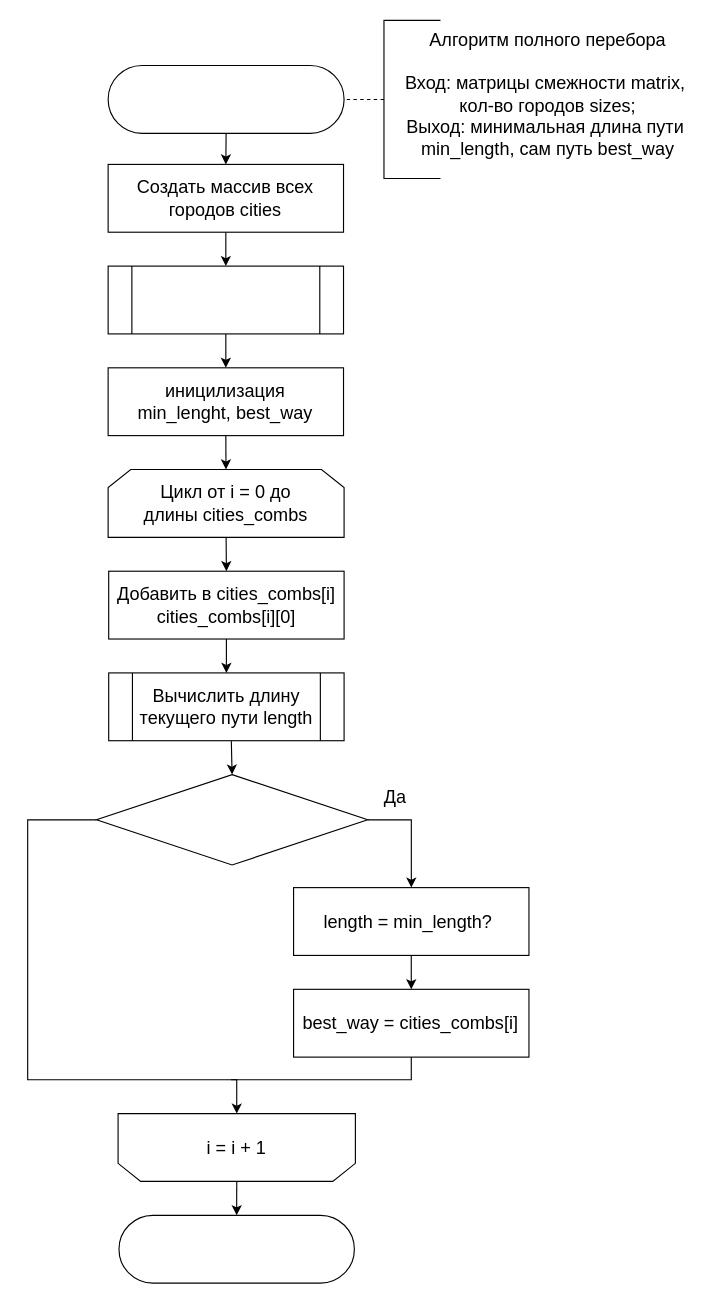
Some shapes in this 720 by 1303 pixel diagram are drawn without their labels. The shapes that lost their labels are listed below. From the top down, each one's centre as x and y in pixels, then its label:
the point at 225,98: Начало
the point at 225,299: Получить массив комбинаций городов cities_combs
the point at 231,819: length < min_length?
the point at 236,1248: Конец
